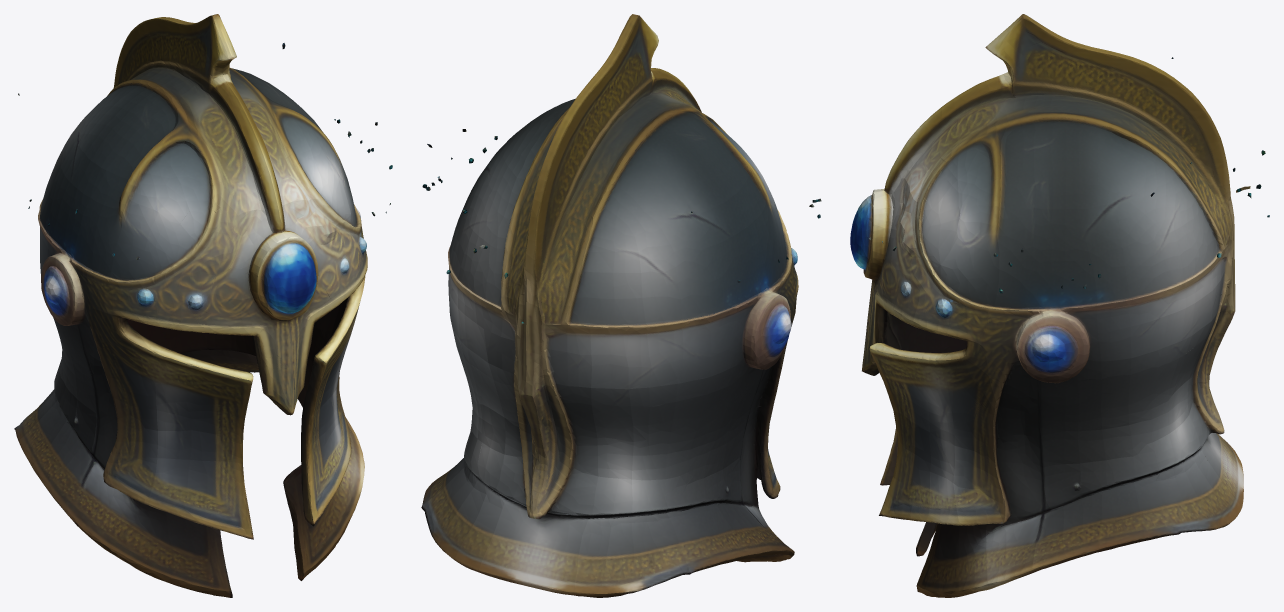
Rendered from BasicHelmet.obj.
The picture shows the model from 3 angles, left to right: view 1: azimuth 30°, elevation 25°; view 2: azimuth 150°, elevation 25°; view 3: azimuth 270°, elevation 25°; orthographic projection. The views are drawn at different scales.
Visible parts, largest first — view 1: geometry_0; view 2: geometry_0; view 3: geometry_0.
Part boxes in pixels (x1,y1,x2,y2): geometry_0: (14, 14, 392, 597); geometry_0: (421, 14, 821, 597); geometry_0: (850, 14, 1269, 597).
Bounding box in the file's own units: 0.638 × 0.9995 × 0.6801.
